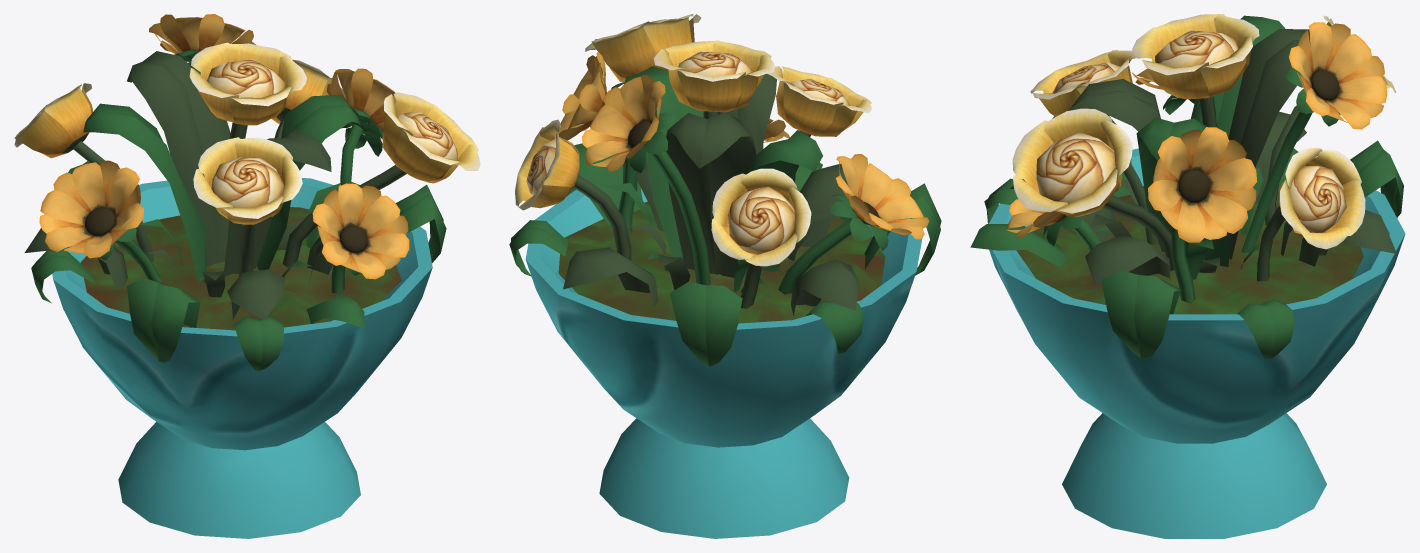
Rendered from CI_028_flower_pot.glb.
3 renders of one model, left to right at view 1: azimuth 30°, elevation 25°; view 2: azimuth 150°, elevation 25°; view 3: azimuth 270°, elevation 25°, orthographic. The views are drawn at different scales.
Parts seen in each view (by area): view 1: pot, leaves huge.001, daisy_petal.001, daisy_petal.002, leaves medium, rose_petal.003, rose_petal.002, leaves huge.002, rose_petal.001, leaves big, leaves huge, leaves small (+16 smaller); view 2: pot, leaves big, leaves huge.001, leaves medium, rose_petal.003, daisy_petal.003, daisy_petal.001, daisy_stems, rose_petal.004, rose_petal.001, rose_petal.002, rose.004 (+14 smaller); view 3: pot, daisy_petal.004, leaves medium, daisy_petal.003, rose_petal.002, leaves big, rose_petal.003, leaves huge.001, rose.002, rose_stems, rose_petal.005, daisy_stems (+15 smaller).
Part boxes in pixels (left/top/right/bottom): pot: left=52, top=178, right=432, bottom=538; leaves huge.001: left=127, top=51, right=230, bottom=266; daisy_petal.001: left=39, top=160, right=143, bottom=258; daisy_petal.002: left=312, top=183, right=409, bottom=279; leaves medium: left=68, top=161, right=446, bottom=363; rose_petal.003: left=189, top=42, right=306, bottom=125; rose_petal.002: left=382, top=92, right=480, bottom=183; leaves huge.002: left=83, top=103, right=206, bottom=286; rose_petal.001: left=193, top=137, right=302, bottom=224; leaves big: left=24, top=228, right=333, bottom=320; leaves huge: left=257, top=94, right=360, bottom=270; leaves small: left=31, top=182, right=359, bottom=371; pot: left=525, top=188, right=922, bottom=538; leaves big: left=563, top=158, right=859, bottom=315; leaves huge.001: left=666, top=112, right=756, bottom=277; leaves medium: left=566, top=143, right=941, bottom=366; rose_petal.003: left=653, top=40, right=775, bottom=112; daisy_petal.003: left=582, top=74, right=665, bottom=171; daisy_petal.001: left=835, top=154, right=929, bottom=239; daisy_stems: left=618, top=145, right=856, bottom=294; rose_petal.004: left=711, top=168, right=811, bottom=266; rose_petal.001: left=767, top=66, right=871, bottom=136; rose_petal.002: left=585, top=14, right=701, bottom=82; rose.004: left=728, top=186, right=795, bottom=254; pot: left=989, top=148, right=1405, bottom=538; daisy_petal.004: left=1148, top=127, right=1257, bottom=242; leaves medium: left=1052, top=116, right=1403, bottom=359; daisy_petal.003: left=1289, top=22, right=1387, bottom=129; rose_petal.002: left=1012, top=108, right=1132, bottom=217; leaves big: left=1010, top=111, right=1396, bottom=285; rose_petal.003: left=1132, top=14, right=1259, bottom=99; leaves huge.001: left=1228, top=29, right=1310, bottom=259; rose.002: left=1036, top=132, right=1115, bottom=203; rose_stems: left=1103, top=96, right=1299, bottom=281; rose_petal.005: left=1278, top=147, right=1365, bottom=249; daisy_stems: left=1073, top=99, right=1312, bottom=303.
Size of the model in its own units: 0.9089 by 1 by 0.8516.
Materials: 5 (1 with a texture image).
